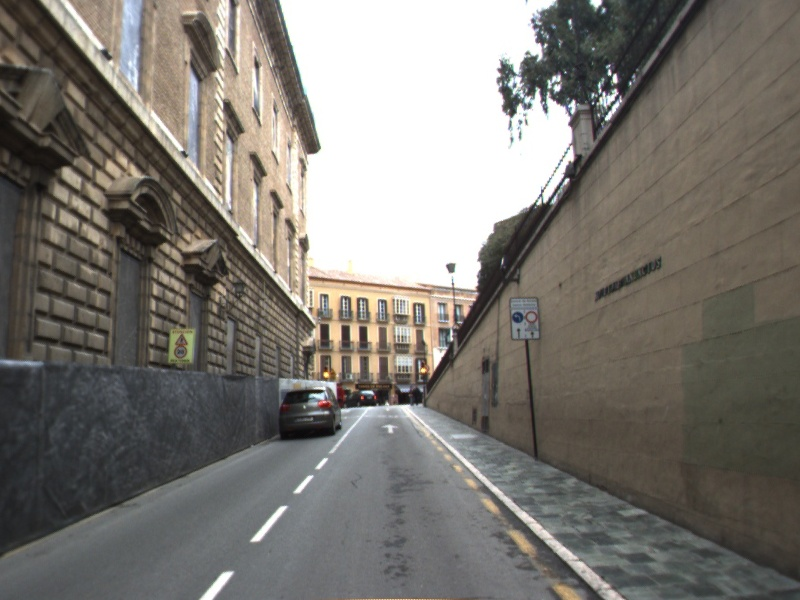STRAIGHT: (379, 422, 401, 435)
